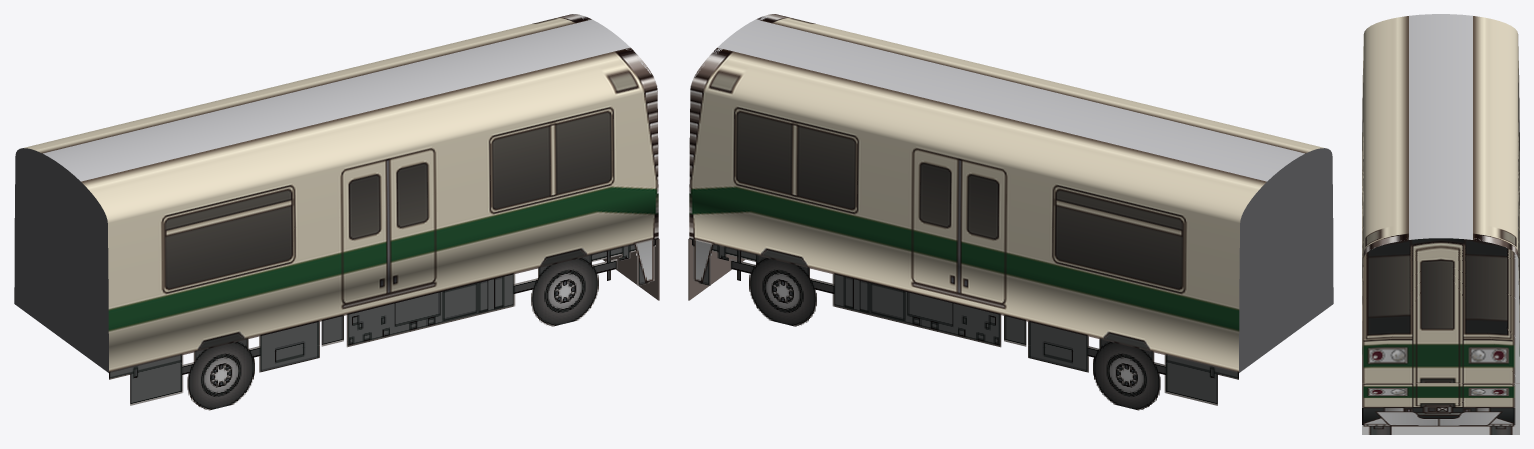
Rendered from car6.glb.
The picture shows the model from 3 angles, left to right: view 1: azimuth 30°, elevation 25°; view 2: azimuth 150°, elevation 25°; view 3: azimuth 270°, elevation 25°; orthographic projection. The views are drawn at different scales.
Parts seen in each view (by area): view 1: kobesinkotu-portliner8000-car6; view 2: kobesinkotu-portliner8000-car6; view 3: kobesinkotu-portliner8000-car6.
Boxes of the visible parts, left/top/right/bottom form: kobesinkotu-portliner8000-car6: left=14, top=14, right=659, bottom=410; kobesinkotu-portliner8000-car6: left=688, top=14, right=1333, bottom=410; kobesinkotu-portliner8000-car6: left=1362, top=14, right=1519, bottom=434.
Bounding box in the file's own units: 8.04 × 3.28 × 2.39.
Materials: 5 (3 with a texture image).
